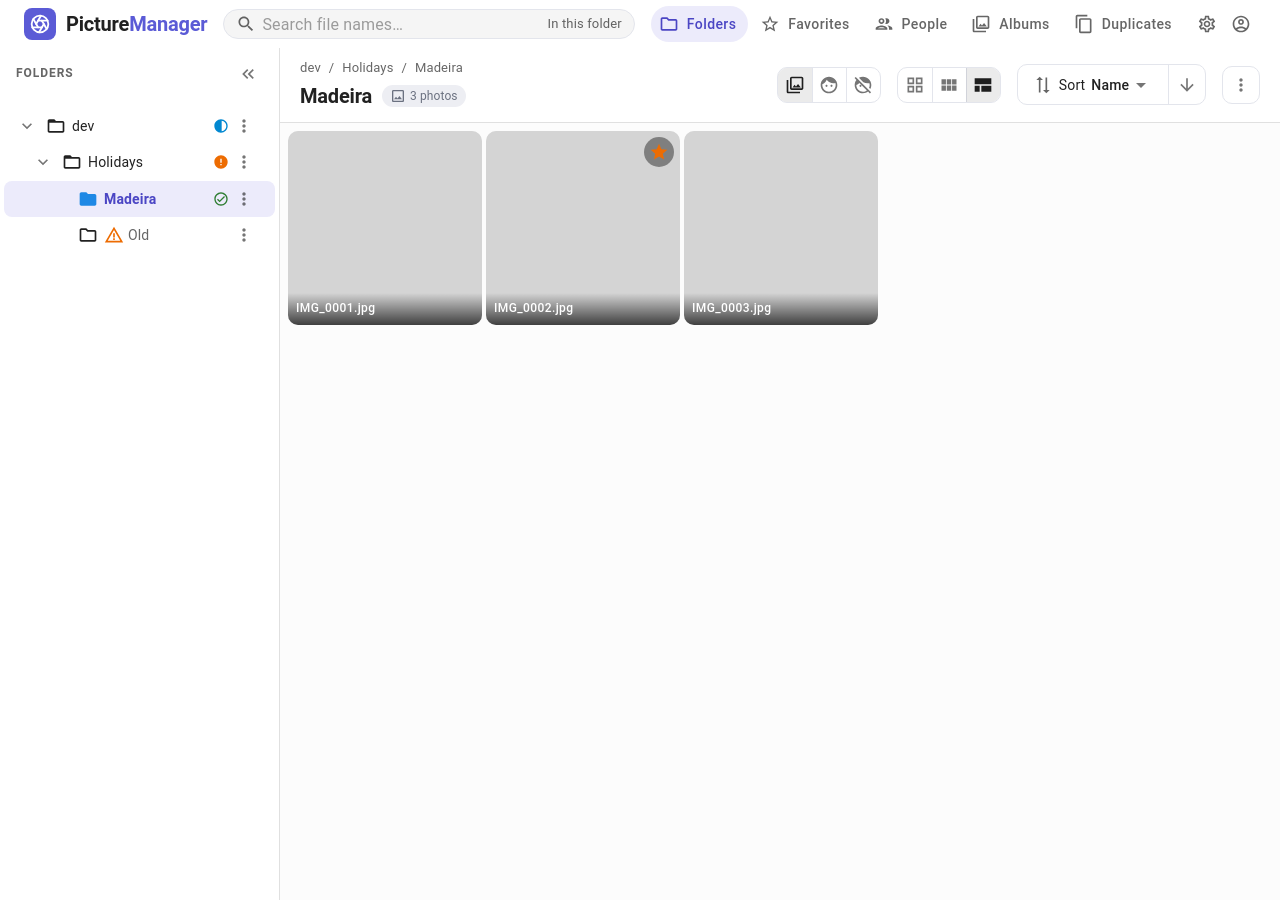
Test case: Search › shows each result's folder path, and scopes to the folder when the chip is on
Click the button "In this folder" at [585, 24], box [548, 16, 622, 31]
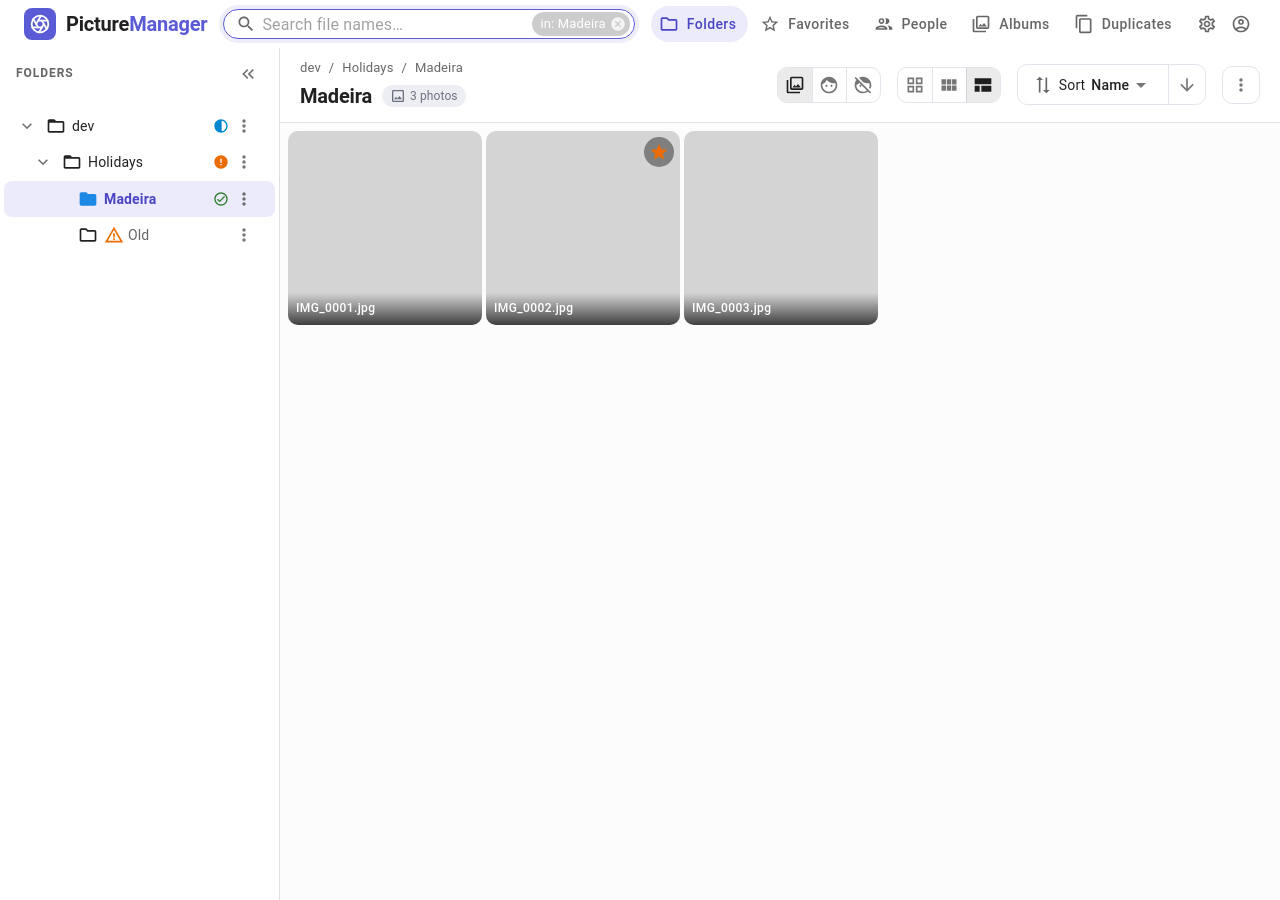
Type "IMG_0001" into the field labelled "Search file names" at [394, 24], box [262, 12, 526, 36]
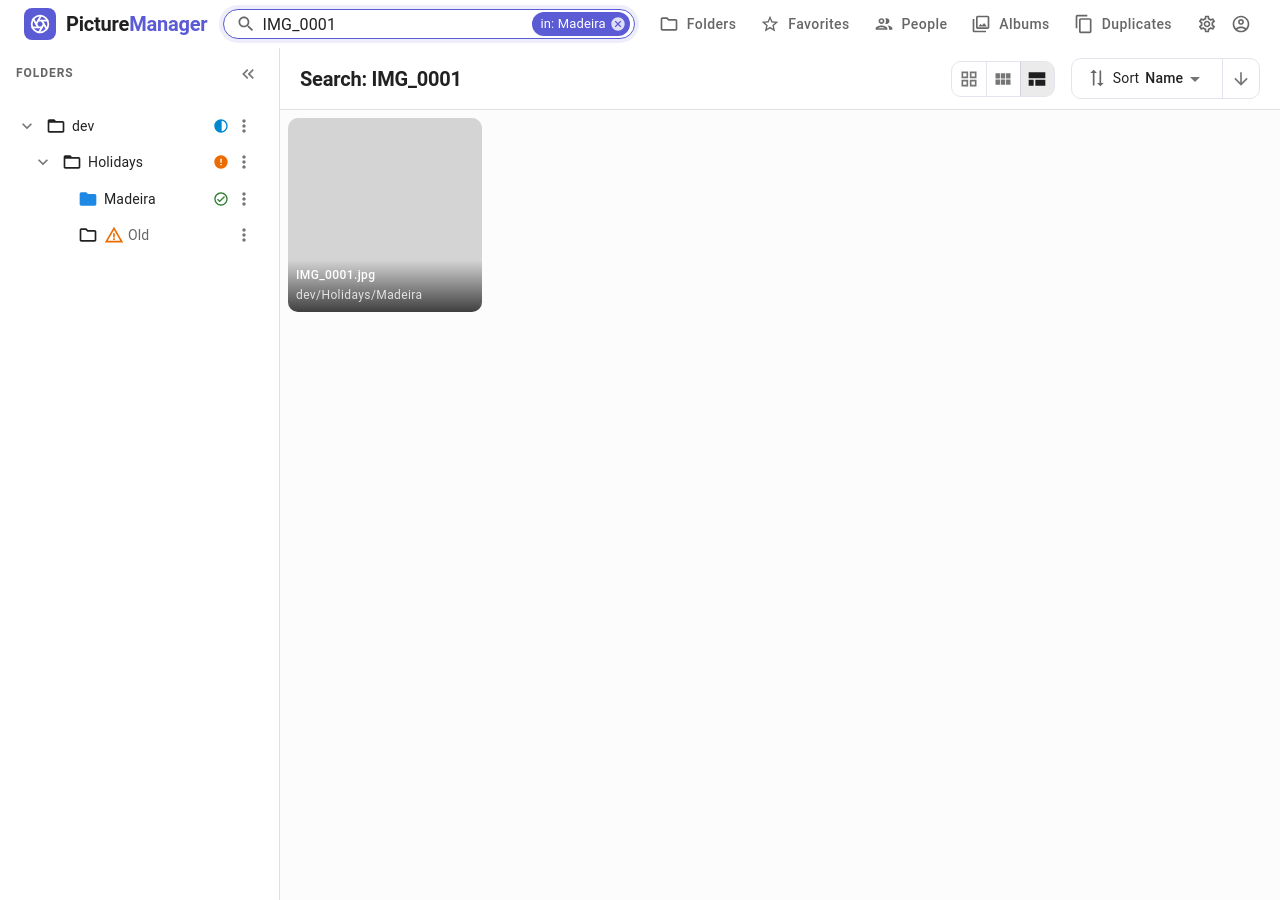
Check: the heading "Search: IMG_0001" is shown, box [300, 62, 462, 94]
Check: the text "dev/Holidays/Madeira" is shown, box [296, 288, 422, 302]
